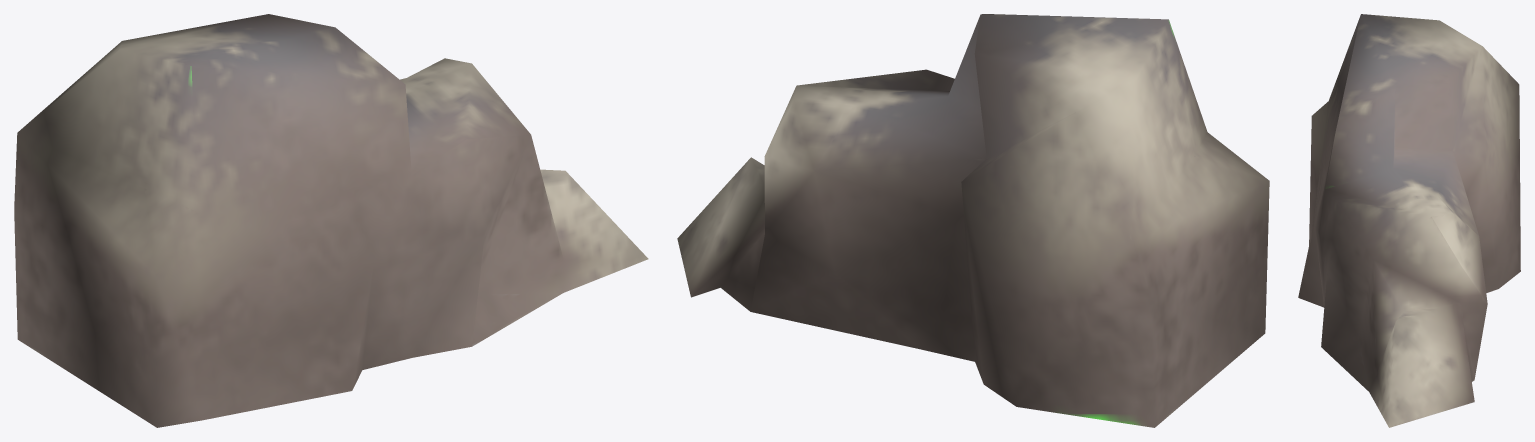
File: Cliff-3.fbx
The picture shows the model from 3 angles, left to right: view 1: azimuth 30°, elevation 25°; view 2: azimuth 150°, elevation 25°; view 3: azimuth 270°, elevation 25°; orthographic projection. The views are drawn at different scales.
Parts seen in each view (by area): view 1: Cliff-3; view 2: Cliff-3; view 3: Cliff-3.
Boxes of the visible parts, left/top/right/bottom form: Cliff-3: left=14, top=14, right=648, bottom=427; Cliff-3: left=677, top=14, right=1269, bottom=427; Cliff-3: left=1298, top=14, right=1520, bottom=427.
Size of the model in its own units: 8.7 by 4.83 by 4.05.
Materials: 1 (1 with a texture image).
